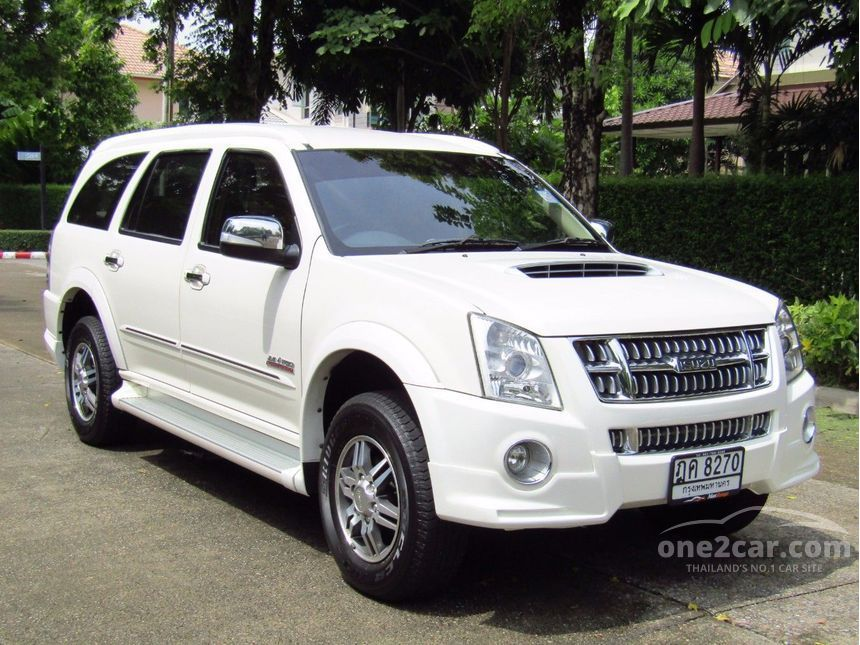pickup: (42, 122, 821, 601)
